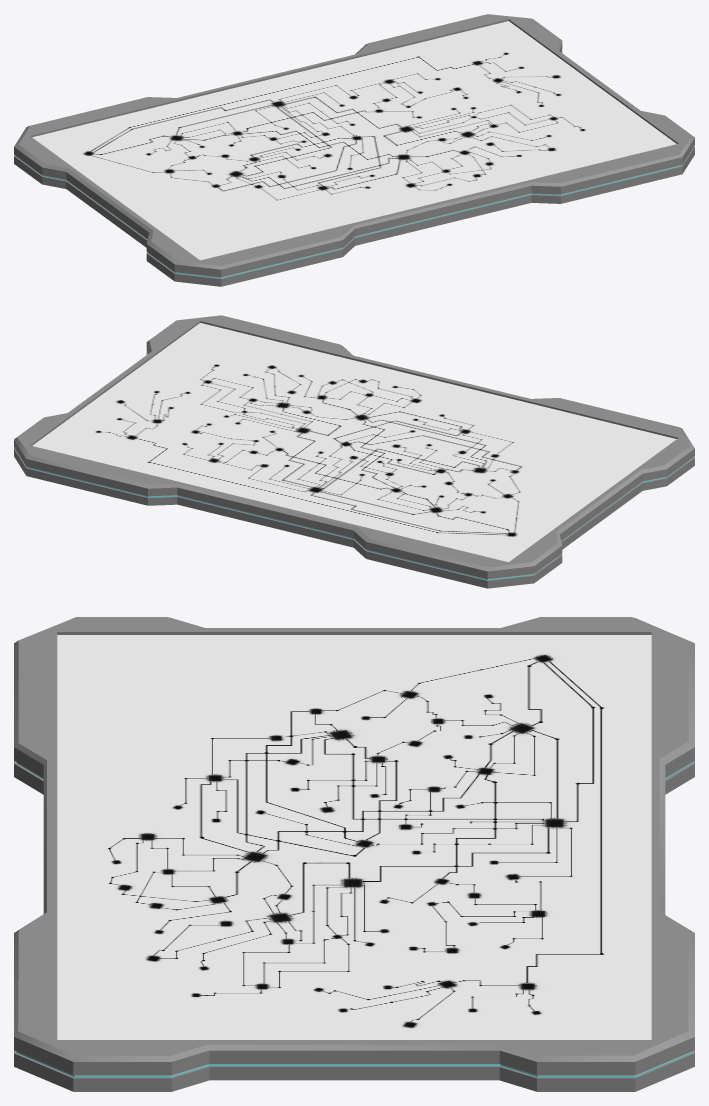
Rendered from Tree_dixing01.FBX.
The picture shows the model from 3 angles, top to bottom: view 1: azimuth 30°, elevation 25°; view 2: azimuth 150°, elevation 25°; view 3: azimuth 270°, elevation 25°; orthographic projection. The views are drawn at different scales.
Parts seen in each view (by area): view 1: Tree_dixing02, Tree_dixing01; view 2: Tree_dixing02, Tree_dixing01; view 3: Tree_dixing02, Tree_dixing01.
Boxes of the visible parts, box(x1,y1,x2,y2) form: Tree_dixing02: box(32, 21, 676, 260); Tree_dixing01: box(14, 14, 694, 286); Tree_dixing02: box(32, 323, 676, 562); Tree_dixing01: box(14, 315, 694, 588); Tree_dixing02: box(57, 635, 651, 1039); Tree_dixing01: box(14, 617, 694, 1091).
Size of the model in its own units: 7066 by 252 by 4582.
Materials: 3 (1 with a texture image).
